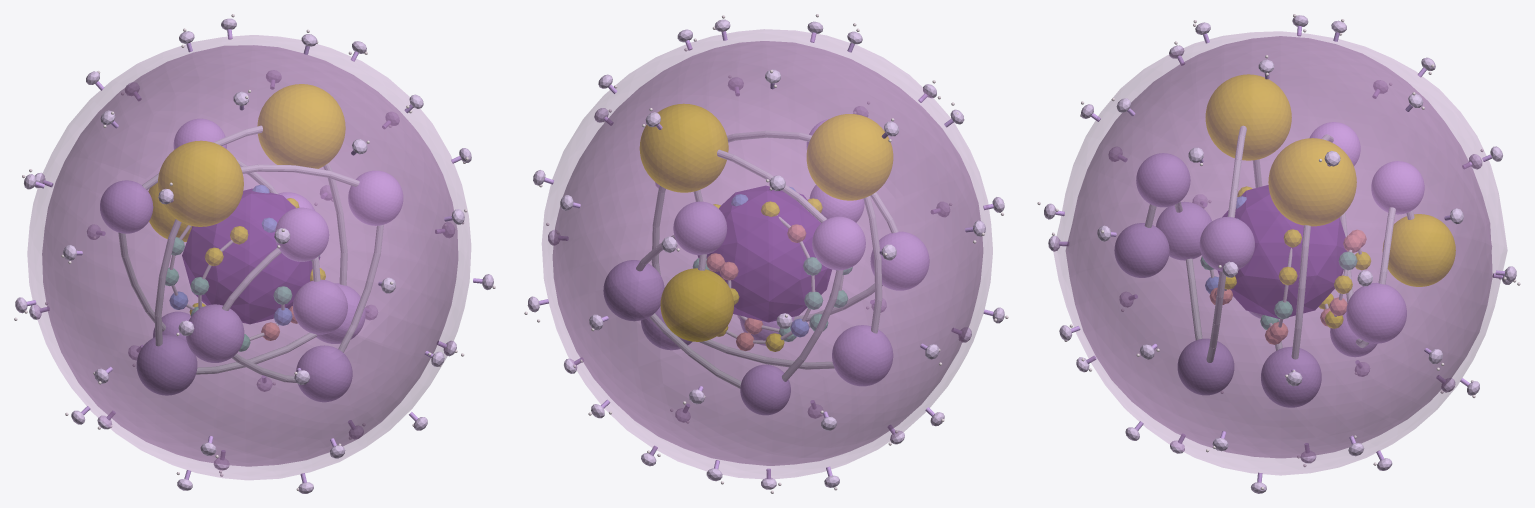
The model's file is mutante_virus_ficticio_d_8280297.glb.
3 views of the same model, side by side, from view 1: azimuth 30°, elevation 25°; view 2: azimuth 150°, elevation 25°; view 3: azimuth 270°, elevation 25° (orthographic).
Visible parts, largest first — view 1: geometry_0, geometry_1, geometry_2, geometry_164, geometry_161, geometry_162, geometry_158, geometry_156, geometry_160, geometry_159, geometry_165, geometry_157 (+4 smaller); view 2: geometry_0, geometry_1, geometry_2, geometry_164, geometry_161, geometry_169, geometry_162, geometry_167, geometry_158, geometry_165, geometry_168, geometry_166 (+2 smaller); view 3: geometry_0, geometry_1, geometry_2, geometry_164, geometry_161, geometry_169, geometry_167, geometry_163, geometry_159, geometry_156, geometry_157, geometry_160 (+4 smaller).
Boxes of the visible parts, x1,y1,x2,y2 form: geometry_0: [27, 35, 470, 479]; geometry_1: [42, 45, 458, 466]; geometry_2: [182, 188, 320, 324]; geometry_164: [257, 84, 345, 168]; geometry_161: [157, 140, 243, 226]; geometry_162: [136, 334, 197, 395]; geometry_158: [186, 304, 244, 362]; geometry_156: [293, 279, 347, 334]; geometry_160: [348, 170, 403, 225]; geometry_159: [296, 345, 352, 402]; geometry_165: [100, 180, 153, 233]; geometry_157: [275, 207, 329, 261]; geometry_0: [542, 29, 992, 479]; geometry_1: [552, 41, 983, 465]; geometry_2: [698, 185, 831, 322]; geometry_164: [639, 103, 728, 192]; geometry_161: [806, 114, 893, 200]; geometry_169: [660, 268, 733, 341]; geometry_162: [832, 325, 893, 386]; geometry_167: [603, 260, 664, 321]; geometry_158: [870, 231, 929, 290]; geometry_165: [812, 216, 865, 270]; geometry_168: [673, 201, 726, 255]; geometry_166: [740, 364, 790, 415]; geometry_0: [1053, 31, 1507, 475]; geometry_1: [1065, 36, 1492, 458]; geometry_2: [1218, 185, 1347, 318]; geometry_164: [1268, 138, 1356, 226]; geometry_161: [1205, 74, 1291, 160]; geometry_169: [1382, 214, 1455, 286]; geometry_167: [1346, 283, 1406, 343]; geometry_163: [1261, 347, 1321, 407]; geometry_159: [1177, 338, 1234, 395]; geometry_156: [1114, 223, 1169, 277]; geometry_157: [1136, 153, 1190, 207]; geometry_160: [1199, 217, 1254, 271].
Bounding box in the file's own units: 16.34 × 16.47 × 16.21.
